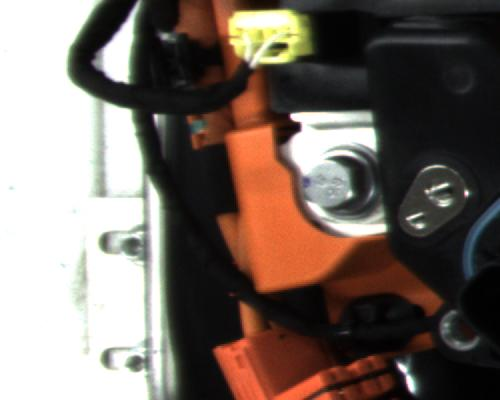nut_b: (295, 147, 380, 218)
